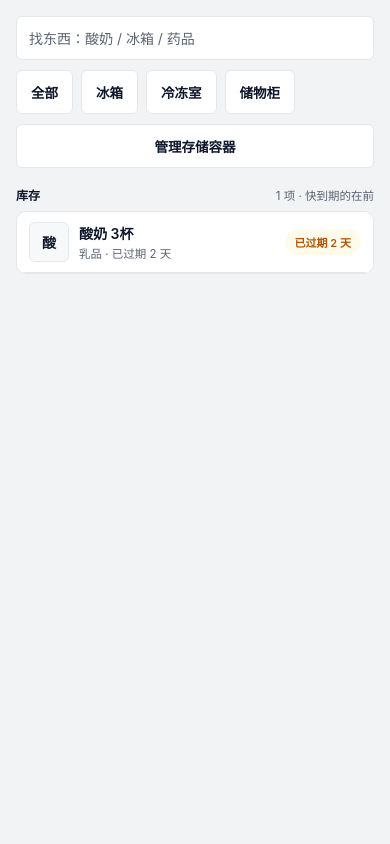
it: 库存 › 列出物品与真实地点，点开看批次
Check: the text "冰箱" is shown, box [96, 82, 123, 102]
Click the text "酸奶 3杯" at [106, 234], box [79, 225, 133, 242]
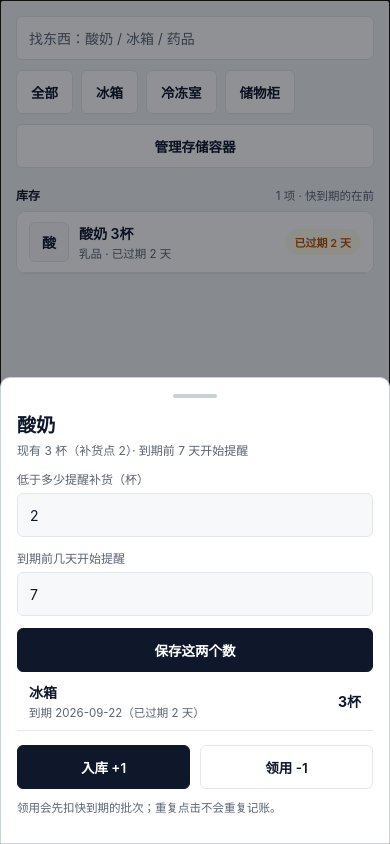
Check: the text "入库 +1" is shown, box [81, 757, 126, 777]
